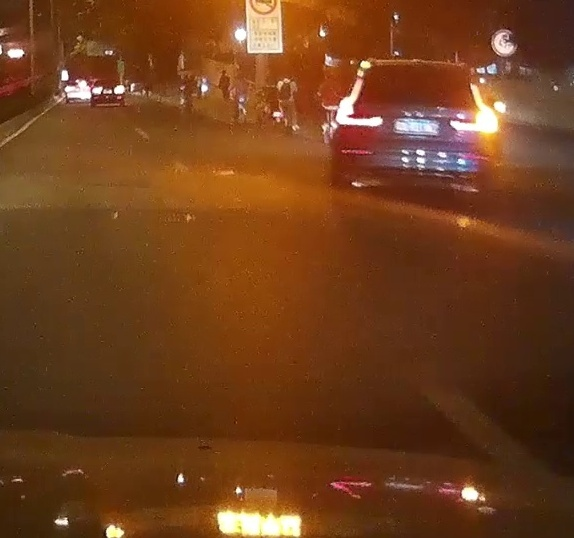L_light: (335, 78, 383, 127)
R_light: (450, 83, 499, 132)
T_light: (409, 66, 431, 71)
night-right: (328, 59, 501, 194)
